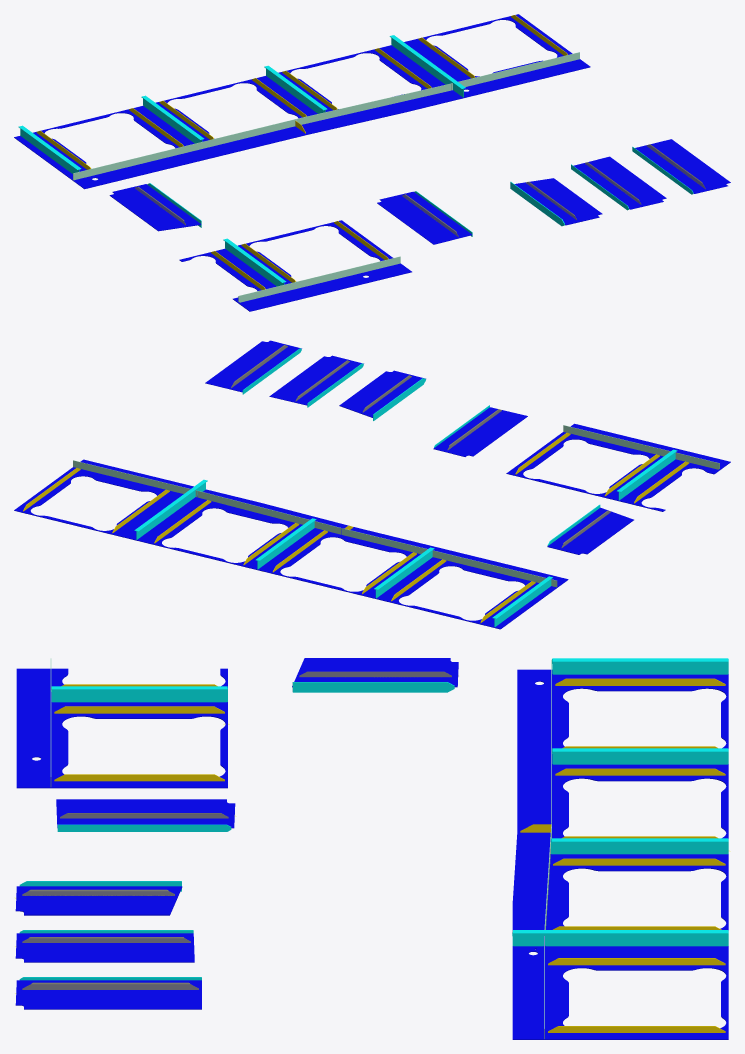
The picture shows the model from 3 angles, top to bottom: view 1: azimuth 30°, elevation 25°; view 2: azimuth 150°, elevation 25°; view 3: azimuth 270°, elevation 25°; orthographic projection. The views are drawn at different scales.
Visible parts, largest first — view 1: 2089127062512; view 2: 2089127062512; view 3: 2089127062512.
Boxes of the visible parts, <box> form: 2089127062512: <box>14,14,730,311</box>; 2089127062512: <box>14,340,730,629</box>; 2089127062512: <box>15,658,730,1039</box>.
Size of the model in its own units: 11.54 by 9.43 by 0.307.
